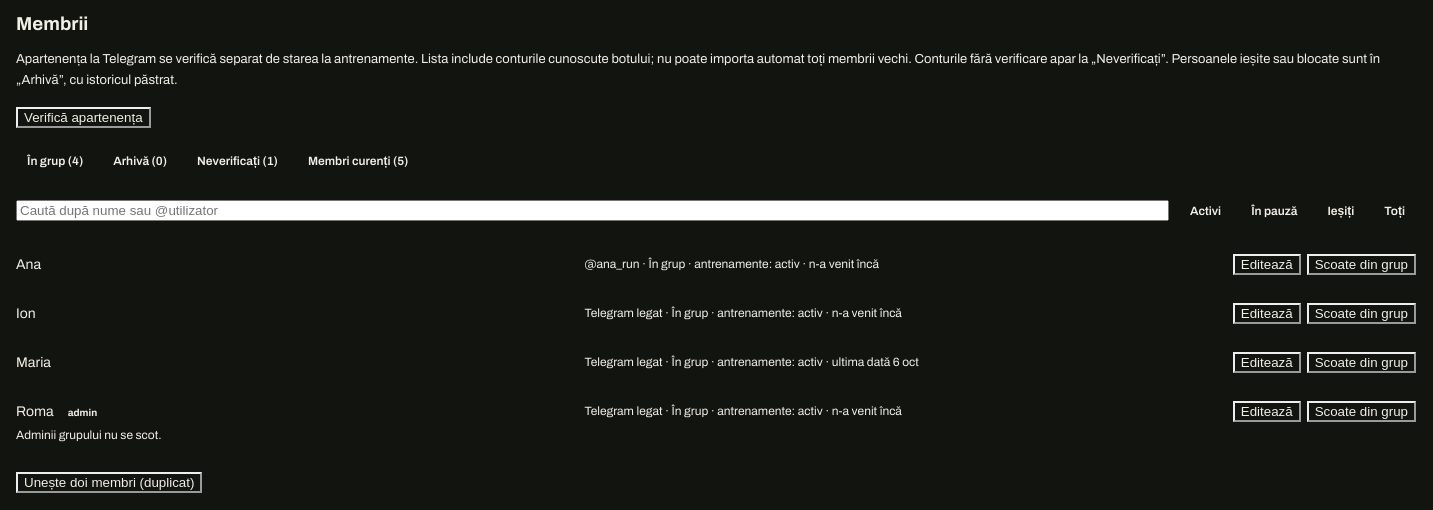
Test: Membrii grupului › caută după utilizatorul de Telegram
This screenshot has width=1433, height=510.
Expected: the text "Ion" is shown, [16,306,36,321]
Type "@ana_run" into the search field named "Caută un membru".
click(592, 211); type("@ana_run")  # box [16,200,1169,221]
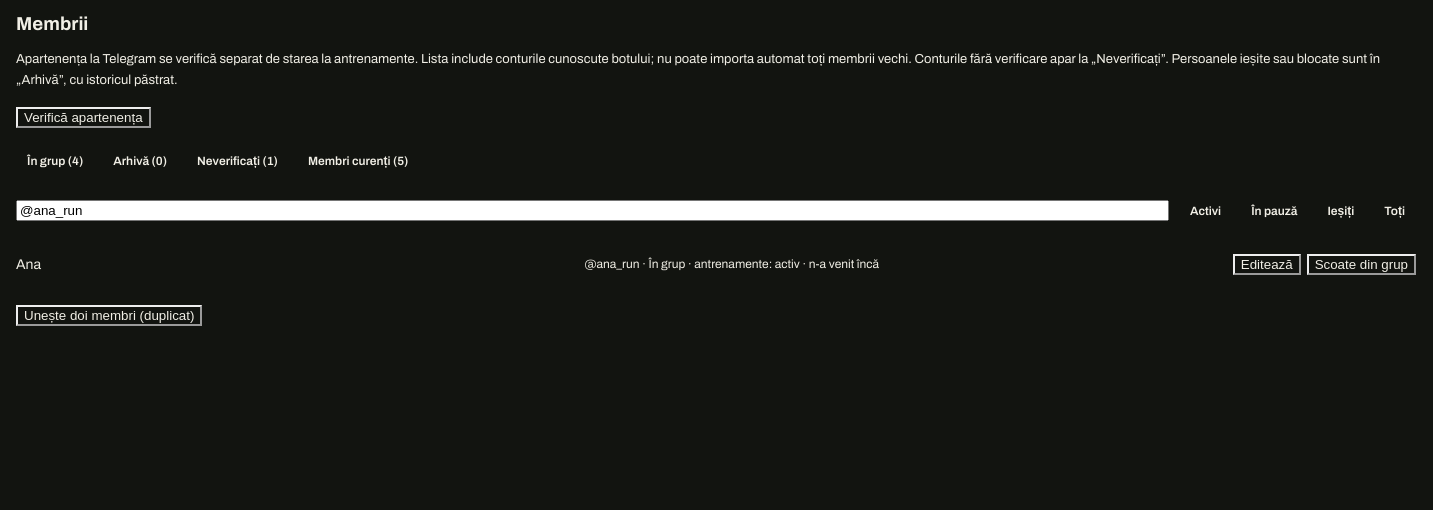
Expected: the text "Ana" is shown, [16,257,41,272]
Expected: the text "Ion" is gone
